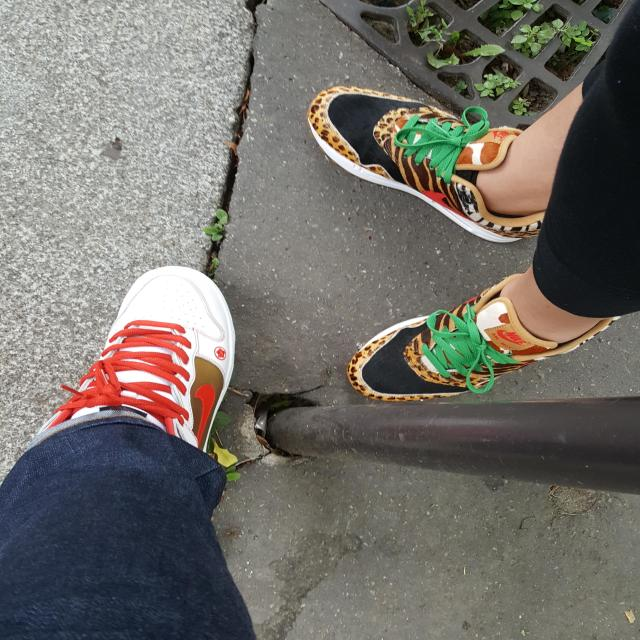shoe: (22, 212, 290, 540), (280, 67, 604, 246), (320, 251, 640, 424)
